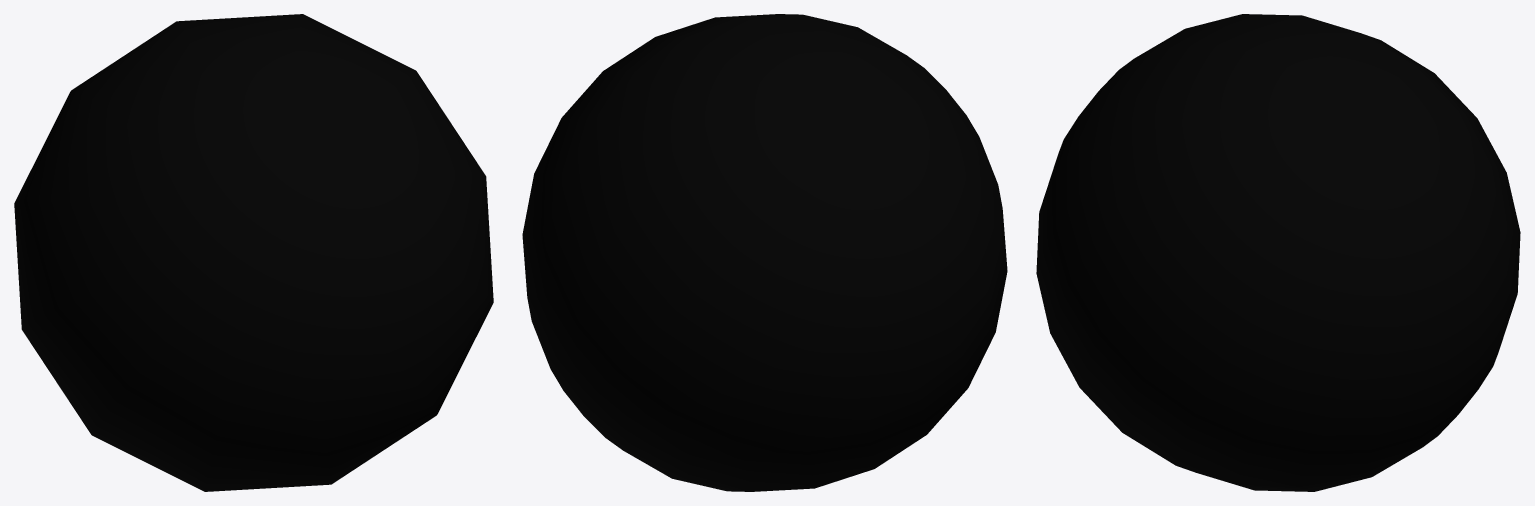
3 views of the same model, side by side, from view 1: azimuth 30°, elevation 25°; view 2: azimuth 150°, elevation 25°; view 3: azimuth 270°, elevation 25° (orthographic).
Visible parts, largest first — view 1: Joint_0_Object_0; view 2: Joint_0_Object_0; view 3: Joint_0_Object_0.
Part boxes in pixels (x1=…): Joint_0_Object_0: x1=14, y1=14, x2=493, y2=491; Joint_0_Object_0: x1=522, y1=14, x2=1007, y2=491; Joint_0_Object_0: x1=1036, y1=14, x2=1520, y2=491.
Size of the model in its own units: 298 by 295 by 299.
1 material, 1 textured.
